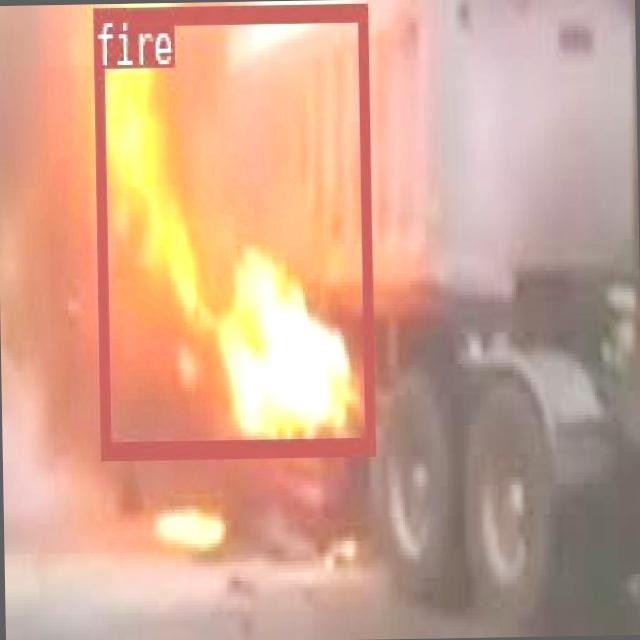fire: (91, 0, 372, 457)
